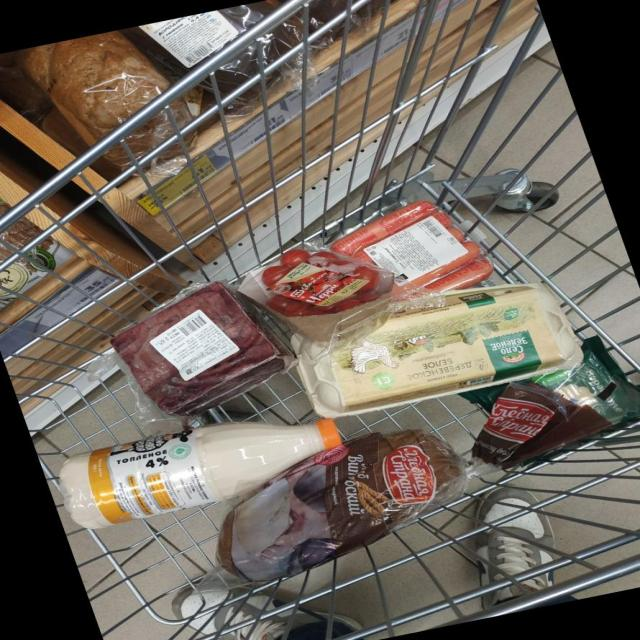egg: (159, 177, 482, 526)
milk: (91, 214, 165, 640)
tomato: (171, 155, 528, 461), (179, 145, 533, 439), (193, 138, 562, 405), (127, 149, 407, 462), (147, 153, 433, 458), (166, 123, 479, 377), (129, 134, 391, 418), (159, 126, 454, 373)
